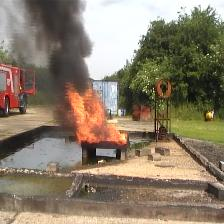fire: (65, 82, 128, 146)
